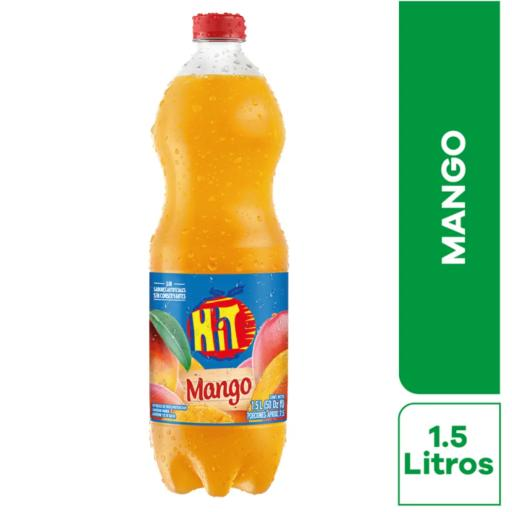JugoHM: (136, 1, 309, 501)
